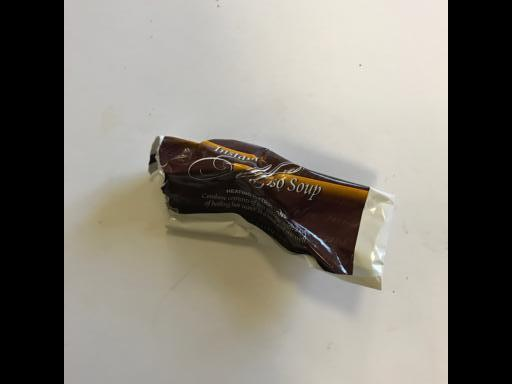trash: (149, 135, 398, 292)
